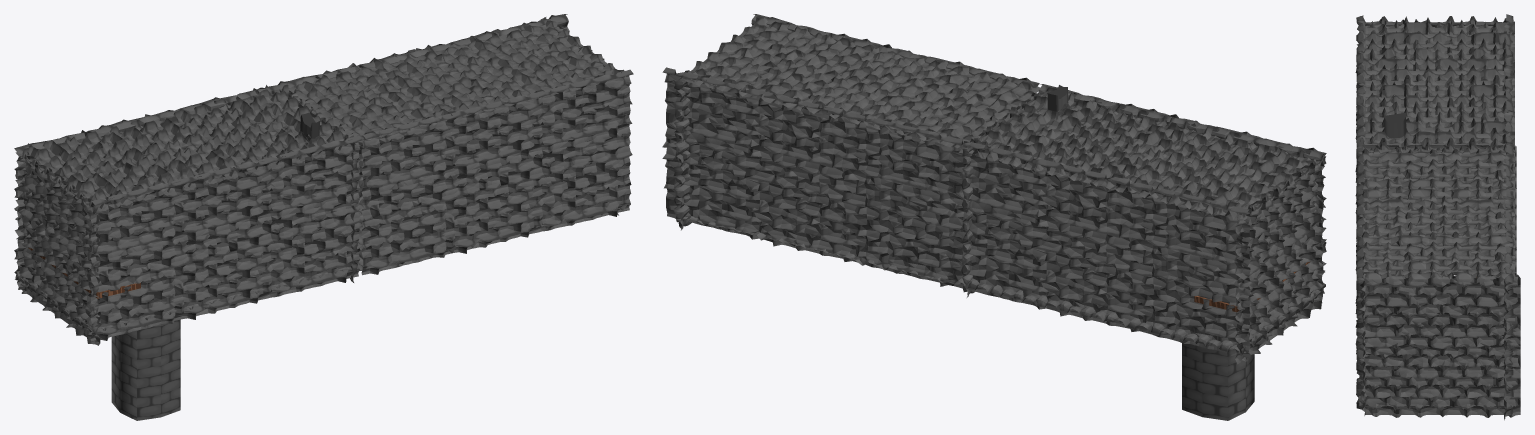
The model's file is Cellar2.fbx.
The picture shows the model from 3 angles, left to right: view 1: azimuth 30°, elevation 25°; view 2: azimuth 150°, elevation 25°; view 3: azimuth 270°, elevation 25°; orthographic projection. The views are drawn at different scales.
Parts seen in each view (by area): view 1: Plane.017, Plane.003, Plane.019, Plane.013, Plane.005, Plane.008, Plane.002, Plane.018, Plane.004, Plane.014, Plane.011; view 2: Plane.018, Plane.002, Plane.019, Plane.013, Plane.005, Plane.008, Plane.003, Plane.004, Plane.020, Plane.017, Plane.014, Plane.011; view 3: Plane.020, Plane.019, Plane.013, Plane.017, Plane.018, Plane.003, Plane.002, Plane.014, Plane.005, Plane.011, Plane.004.
Part boxes in pixels (<box>): Plane.017: <box>361,69,633,275</box>; Plane.003: <box>90,135,362,341</box>; Plane.019: <box>287,17,626,142</box>; Plane.013: <box>15,84,360,208</box>; Plane.005: <box>14,152,100,345</box>; Plane.008: <box>111,319,180,420</box>; Plane.002: <box>14,80,297,289</box>; Plane.018: <box>286,14,569,203</box>; Plane.004: <box>15,265,359,333</box>; Plane.014: <box>279,89,358,282</box>; Plane.011: <box>358,198,626,270</box>; Plane.018: <box>662,67,963,286</box>; Plane.002: <box>949,138,1250,358</box>; Plane.019: <box>679,16,1039,148</box>; Plane.013: <box>959,85,1324,220</box>; Plane.005: <box>1235,156,1326,364</box>; Plane.008: <box>1182,343,1254,420</box>; Plane.003: <box>1038,84,1326,302</box>; Plane.004: <box>958,278,1321,355</box>; Plane.020: <box>673,28,755,230</box>; Plane.017: <box>751,14,1039,142</box>; Plane.014: <box>962,91,1047,297</box>; Plane.011: <box>682,216,961,285</box>; Plane.020: <box>1365,274,1520,417</box>; Plane.019: <box>1359,145,1514,279</box>; Plane.013: <box>1360,16,1514,150</box>; Plane.017: <box>1355,146,1365,415</box>; Plane.018: <box>1503,148,1514,420</box>; Plane.003: <box>1355,15,1365,258</box>; Plane.002: <box>1503,14,1514,154</box>; Plane.014: <box>1364,145,1514,277</box>; Plane.005: <box>1364,19,1515,145</box>; Plane.011: <box>1359,375,1514,410</box>; Plane.004: <box>1515,146,1516,274</box>.
Bounding box in the file's own units: 5316 × 2348 × 1389.
